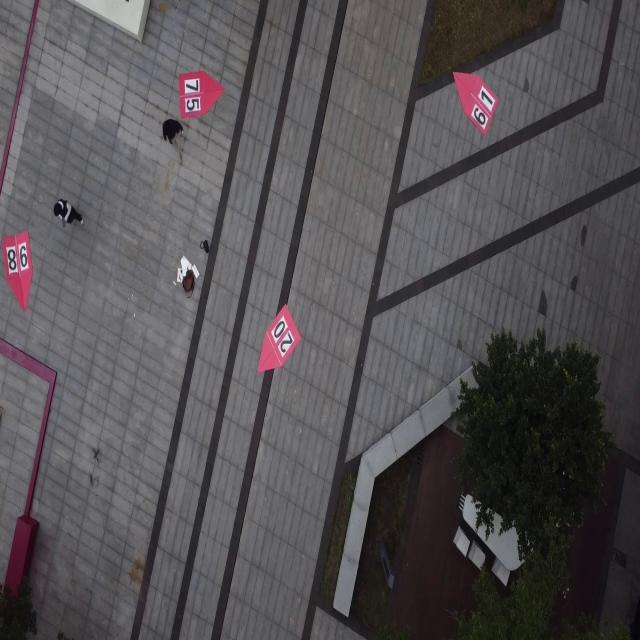-sign-: (256, 303, 302, 374), (453, 70, 498, 137), (3, 232, 33, 313), (178, 70, 226, 120)
